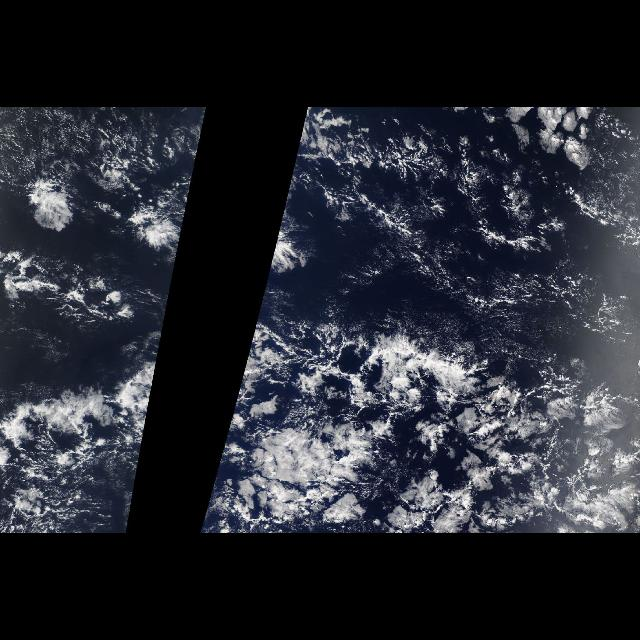Flower: (201, 320, 631, 524), (1, 144, 200, 310), (260, 144, 372, 310)
Gravel: (298, 149, 630, 303)
